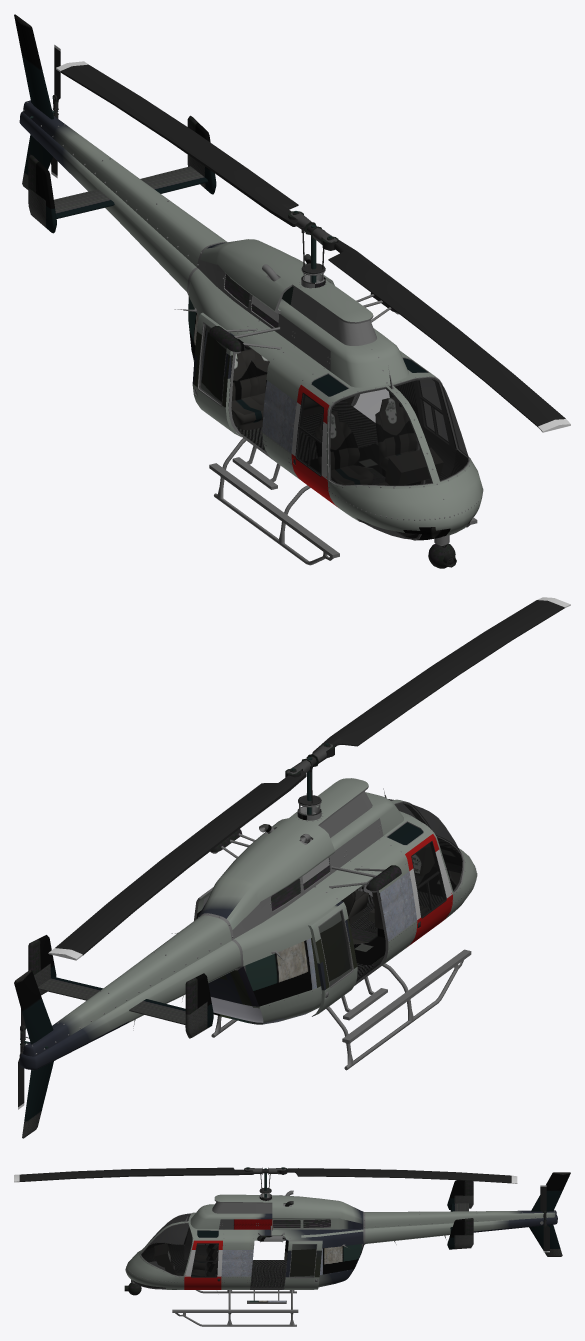
Rendered from Helicopter_3.FBX.
3 renders of one model, top to bottom at view 1: azimuth 30°, elevation 25°; view 2: azimuth 150°, elevation 25°; view 3: azimuth 270°, elevation 25°, orthographic. The views are drawn at different scales.
Visible parts, largest first — view 1: Body, Main rotor, Door_R, Door_L; view 2: Body, Main rotor, Door_R; view 3: Body, Main rotor, Door_L, Tail rotor, Door_R.
Boxes of the visible parts, box(x1,y1,x2,y2) form: Body: box(14, 14, 483, 568); Main rotor: box(56, 61, 570, 432); Door_R: box(291, 385, 336, 506); Door_L: box(413, 379, 455, 476); Body: box(14, 778, 477, 1138); Main rotor: box(48, 597, 570, 960); Door_R: box(405, 834, 452, 946); Body: box(124, 1172, 570, 1326); Main rotor: box(14, 1167, 517, 1197); Door_L: box(184, 1240, 222, 1289); Tail rotor: box(540, 1185, 549, 1252); Door_R: box(184, 1229, 208, 1259).
Size of the model in its own units: 55.81 by 84.72 by 301.
